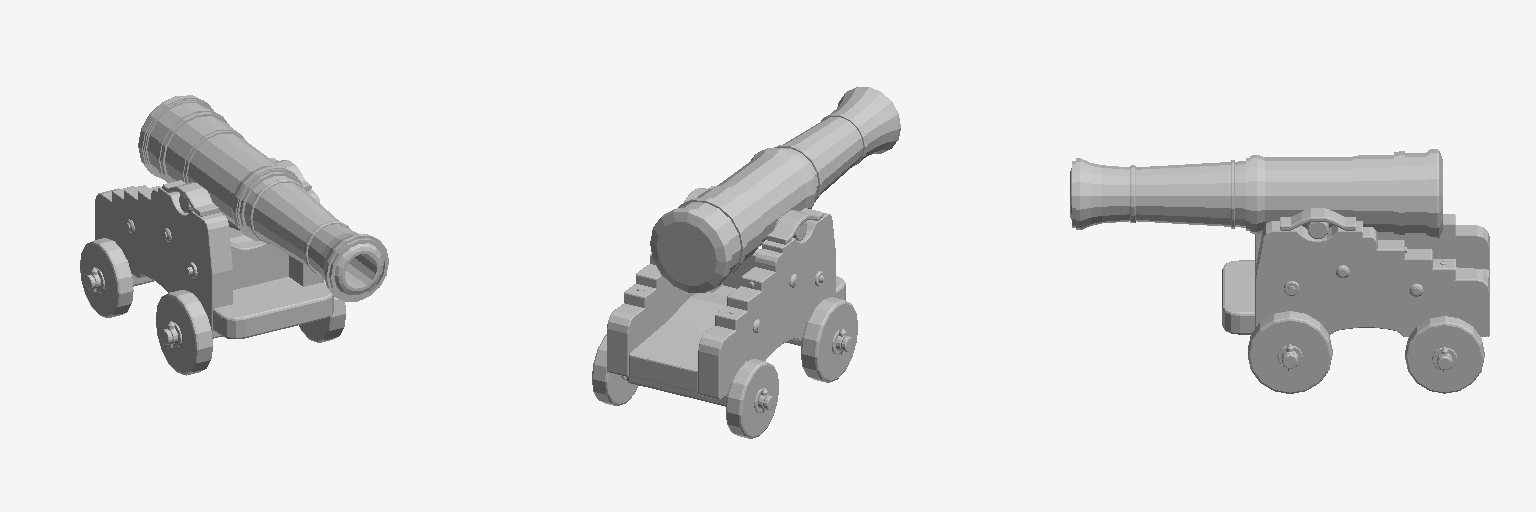
The model's file is gun.obj.
The picture shows the model from 3 angles: view 1: azimuth 30°, elevation 25°; view 2: azimuth 150°, elevation 25°; view 3: azimuth 270°, elevation 25°; orthographic projection.
Visible parts, largest first — view 1: Cannon.001_Cube.013; view 2: Cannon.001_Cube.013; view 3: Cannon.001_Cube.013.
Part boxes in pixels (x1,y1,x2,y2): Cannon.001_Cube.013: (80,95,388,375); Cannon.001_Cube.013: (592,87,900,438); Cannon.001_Cube.013: (1070,149,1489,393).
Bounding box in the file's own units: 5.66 × 6.41 × 11.89.